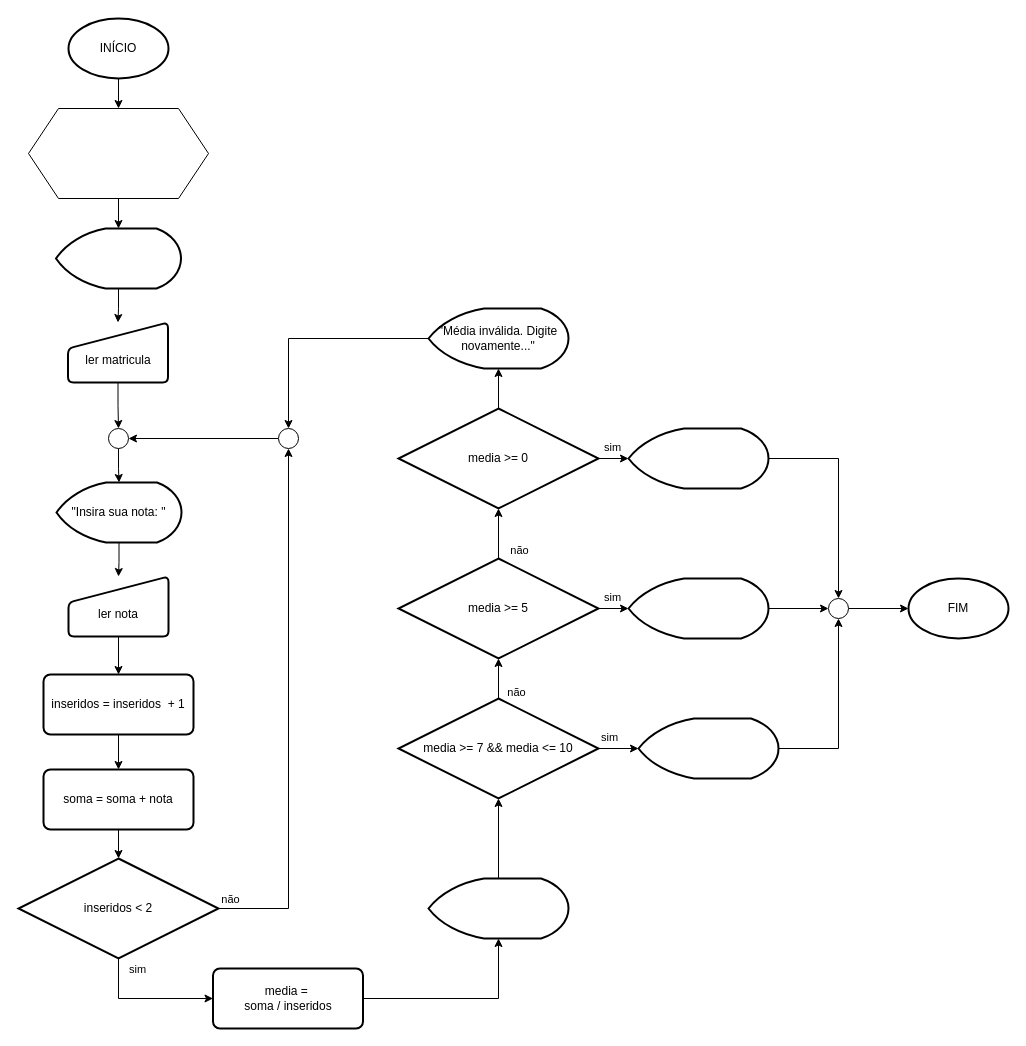
Some shapes in this 1026 by 1046 pixel diagram are drawn without their labels. The shapes that lost their labels are listed below. From the top down, each one's centre as x and y in pixels, then its label:
(118,153): matricula nota soma media
(118,258): "Insira sua matrícula: "
(698,458): "Reprovado"
(698,608): "Recuperação"
(708,748): "Aprovado"
(498,908): "Sua matrícula é " + matricula
